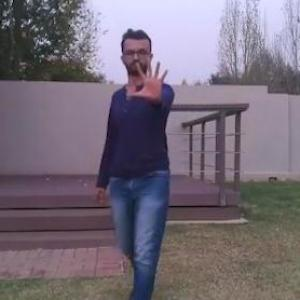follow_hand: (125, 52, 171, 102)
